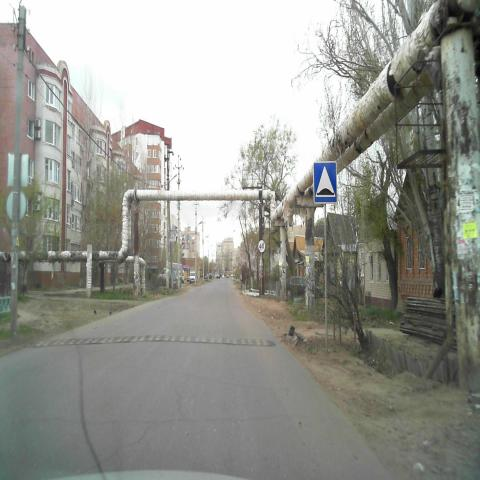3_25: (257, 239, 266, 254)
